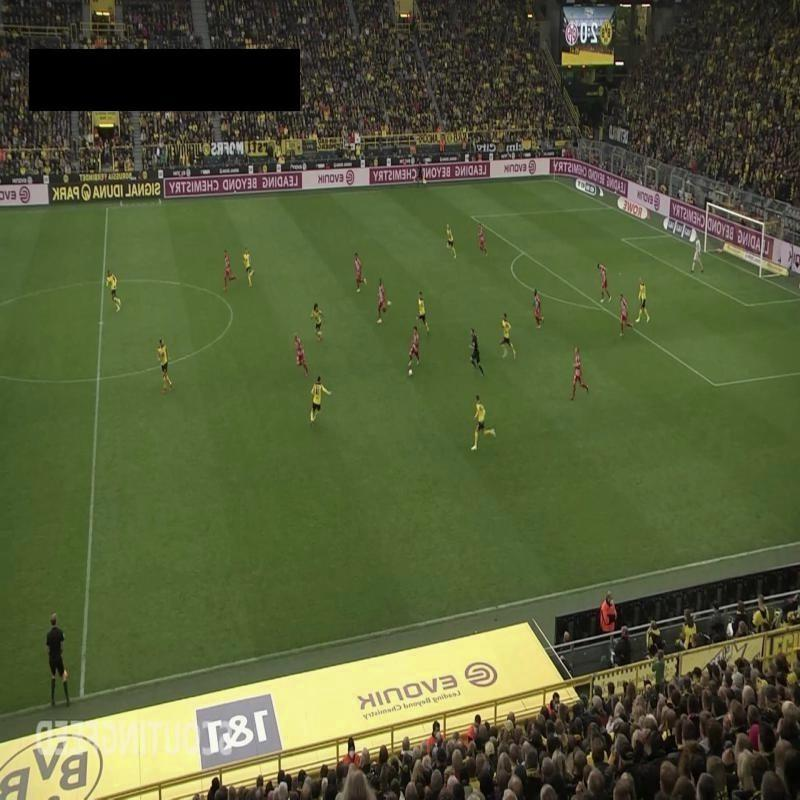1: (546, 172, 560, 186)
10: (517, 244, 531, 258)
11: (597, 302, 611, 316)
12: (709, 378, 723, 392)
13: (100, 202, 114, 215)
14: (96, 275, 110, 289)
15: (92, 372, 106, 386)
16: (72, 686, 90, 706)
2: (606, 201, 620, 215)
3: (661, 226, 676, 240)
7: (616, 232, 630, 245)
8: (740, 299, 754, 313)
9: (465, 208, 480, 222)
c: (226, 308, 240, 322)
